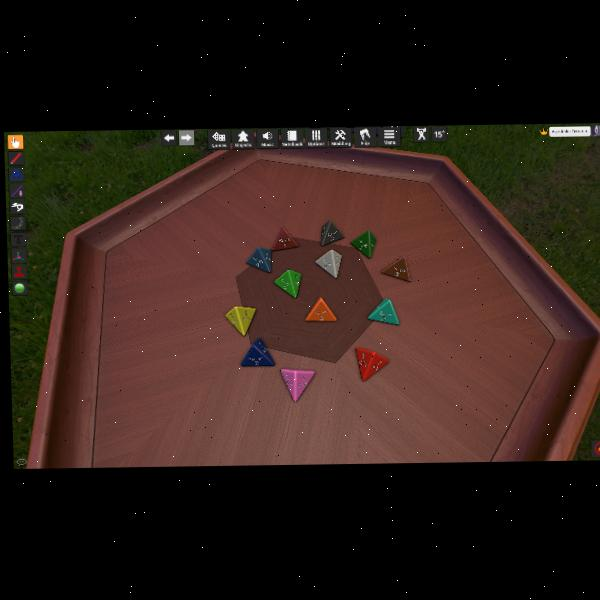d4: (281, 367, 316, 400), (355, 346, 388, 379), (240, 337, 275, 366), (226, 304, 257, 335), (273, 268, 302, 298), (367, 298, 399, 325), (305, 297, 336, 322), (350, 229, 376, 258), (381, 255, 410, 281), (315, 250, 341, 279), (271, 226, 299, 252), (245, 246, 272, 272), (320, 220, 344, 247)
